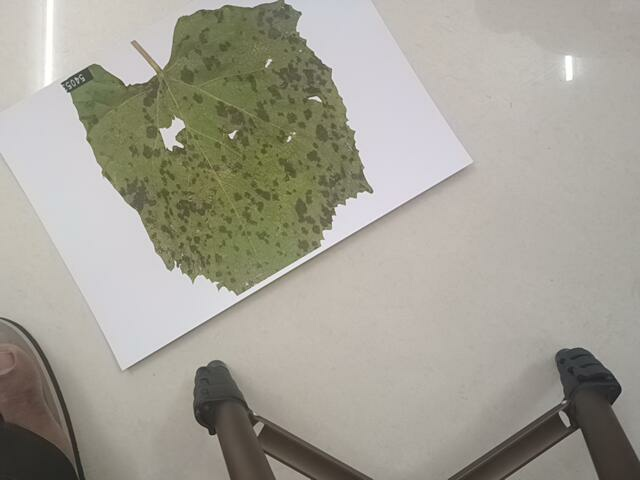Grape_Blight_Leaf: (37, 1, 377, 293)
